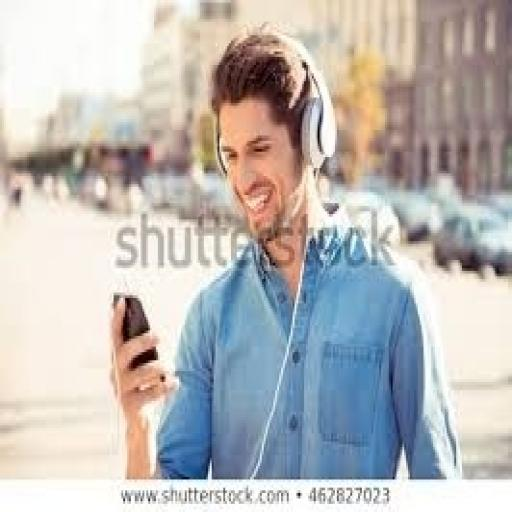listening_to_music: (108, 24, 464, 480)
